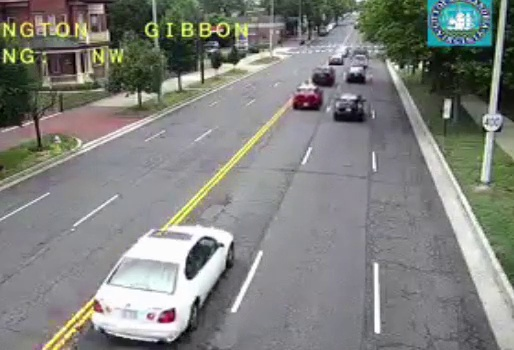car: (91, 224, 233, 341), (335, 94, 365, 118), (293, 87, 320, 111), (312, 68, 333, 86), (347, 66, 366, 82)
